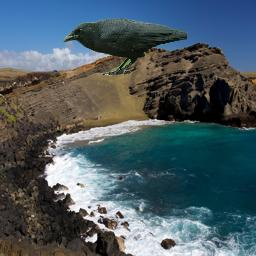Crow: (62, 18, 188, 77)
